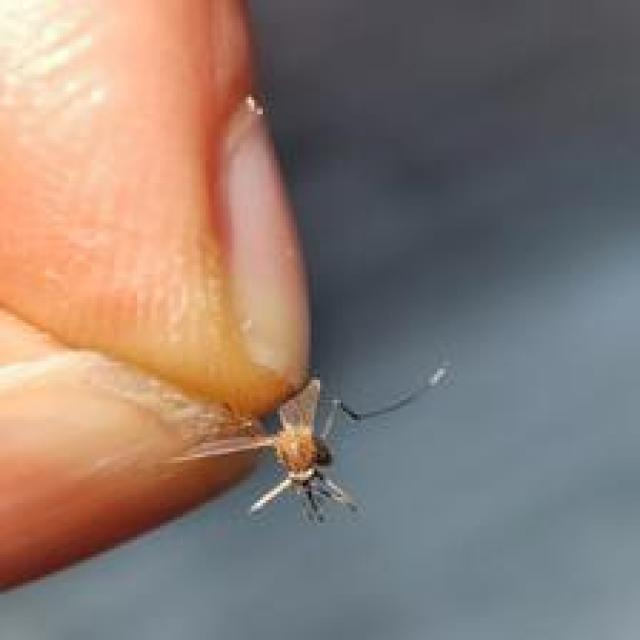Culex: (167, 360, 450, 526)
